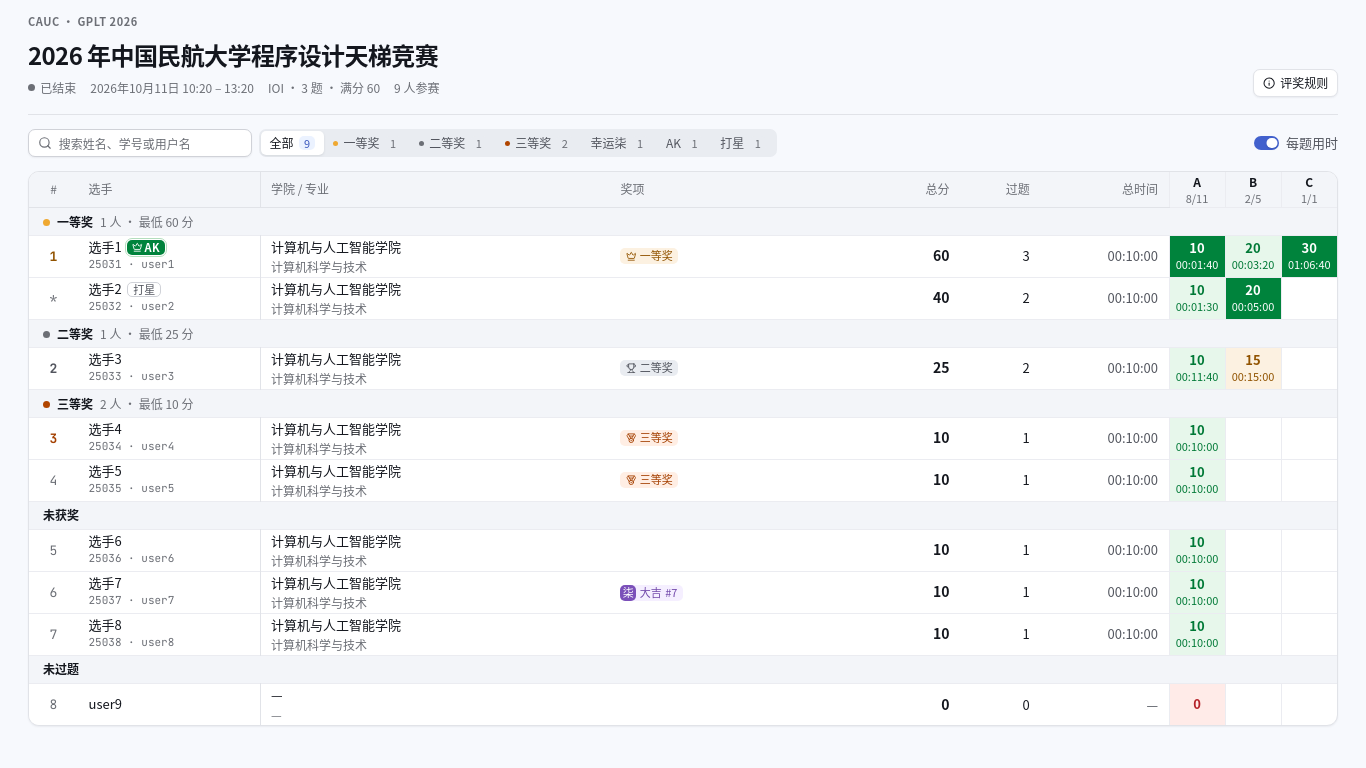
Test: public contest board page › searches by name, student id or handle
Type "25035" into the search field named "搜索选手" at (151, 143), box [59,130,242,156]
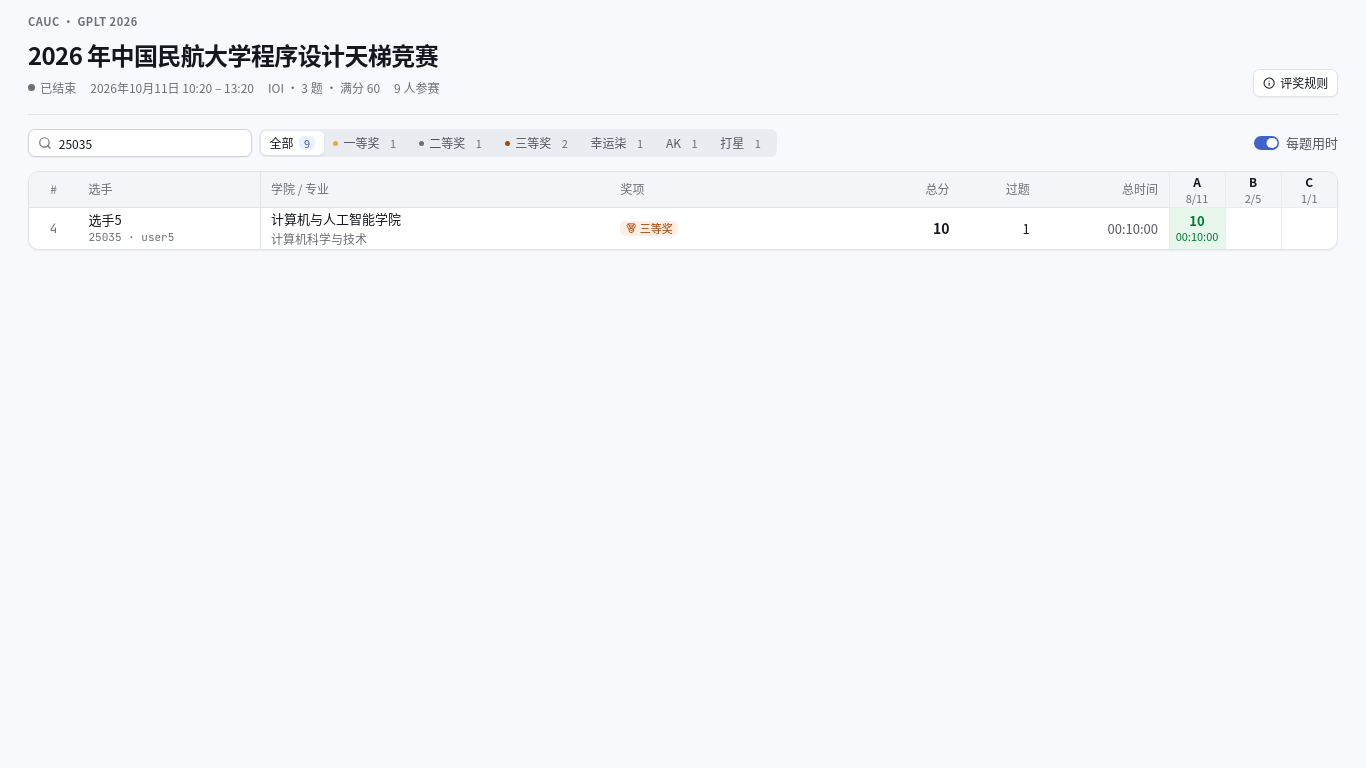
Replace the text in the search field named "搜索选手" with "USER9" at (151, 143), box [59,130,242,156]
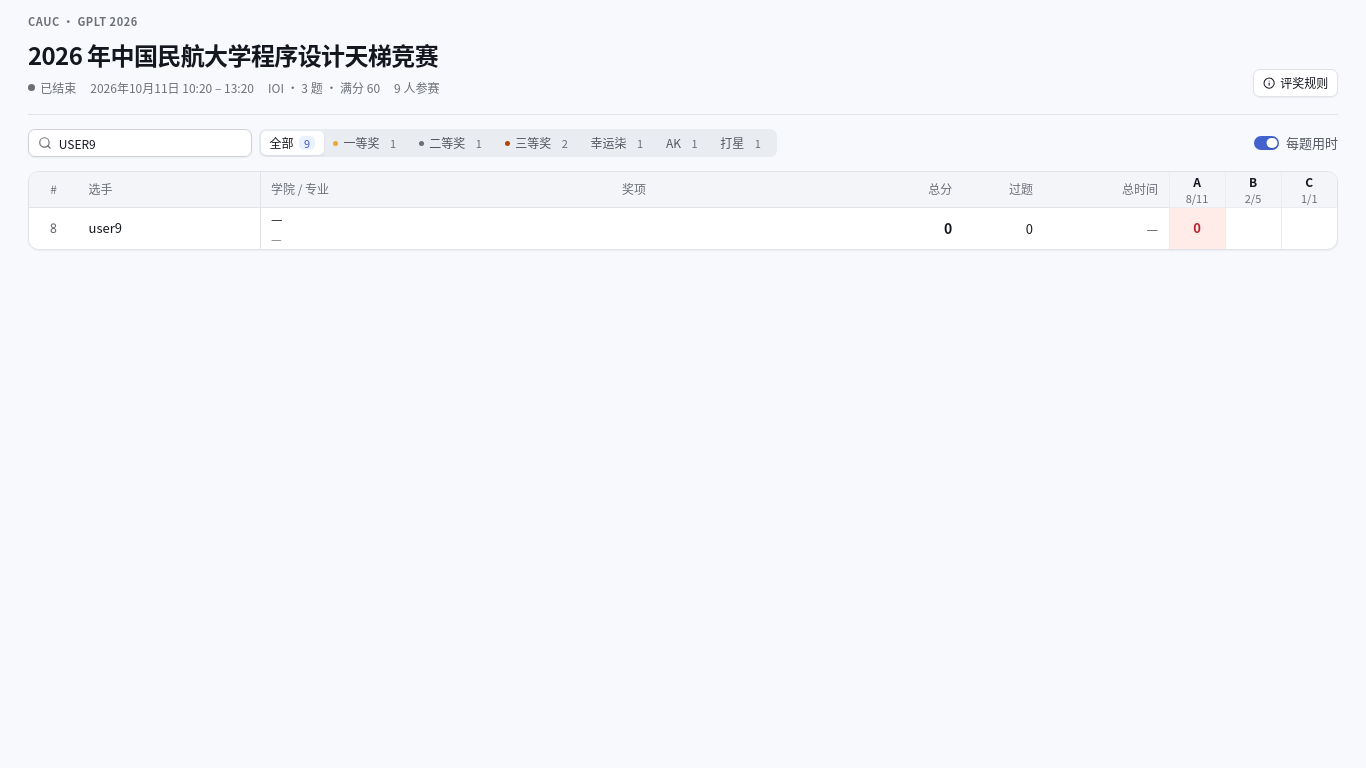
Replace the text in the search field named "搜索选手" with "没有这个人" at (151, 143), box [59,130,242,156]
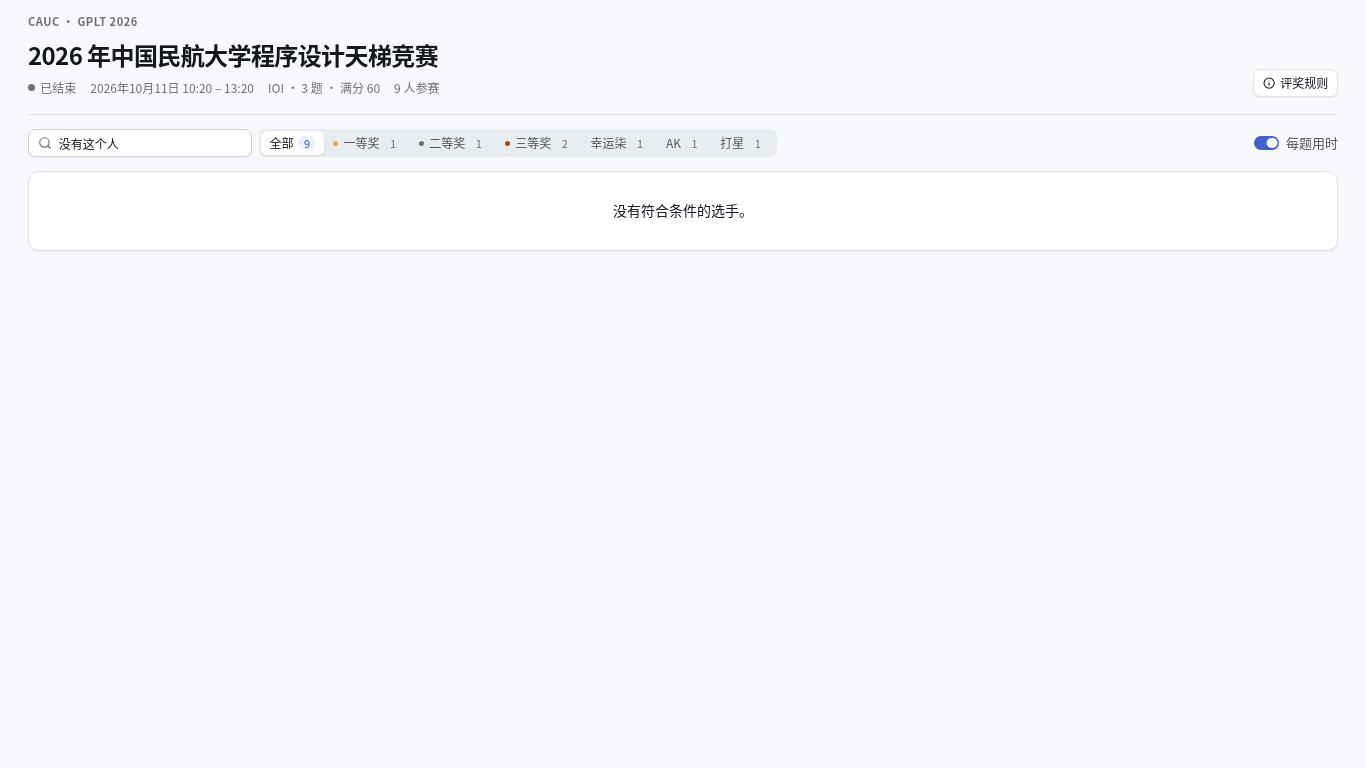
Expected: the text "没有符合条件的选手。" is shown, [613,200,753,222]
